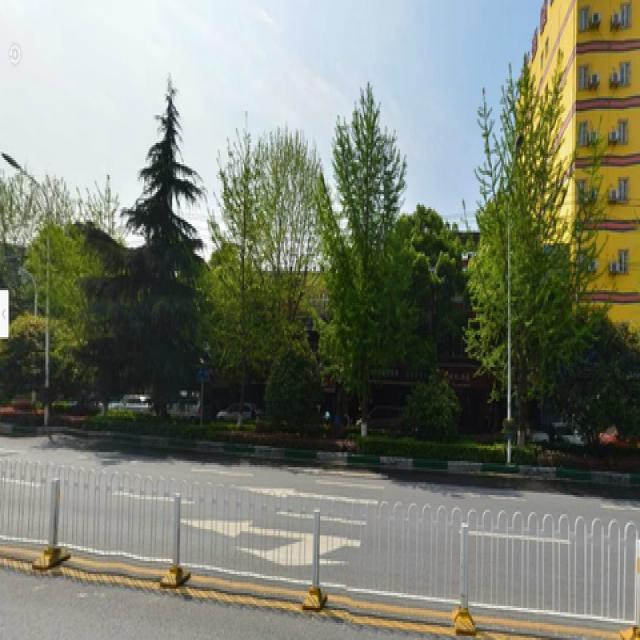cedr: (109, 72, 208, 412)
